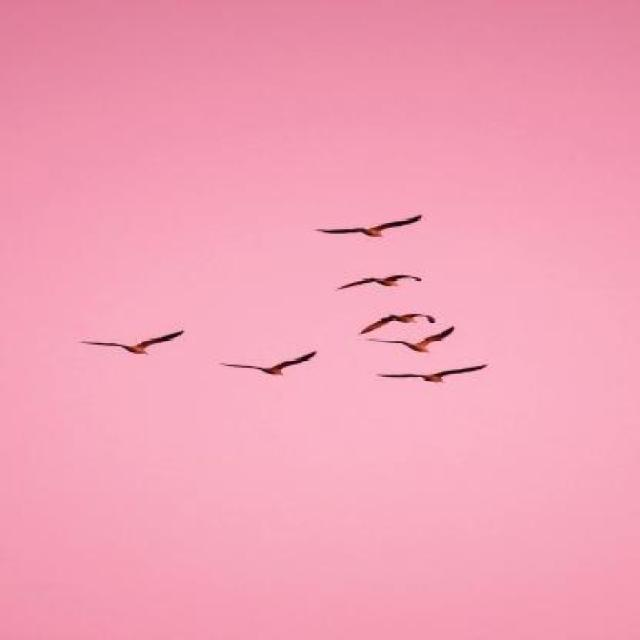bird: (78, 330, 184, 356), (314, 213, 423, 238), (368, 326, 457, 354), (220, 352, 318, 376), (378, 365, 490, 383), (358, 312, 437, 334), (336, 274, 422, 291)
